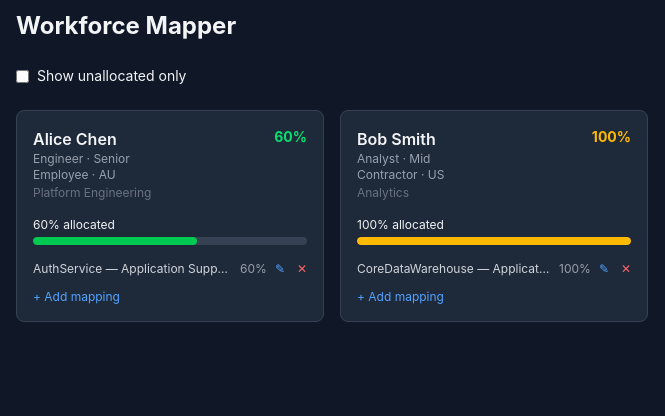
Test case: MappingView › shows reason-specific toast when resource inactive on add
Expected: the text "Alice Chen" is shown, x1=33 y1=129 x2=117 y2=149
Click the button "+ Add mapping" below "AuthService — Application Support": x=76, y=296 x1=33 y1=289 x2=307 y2=305
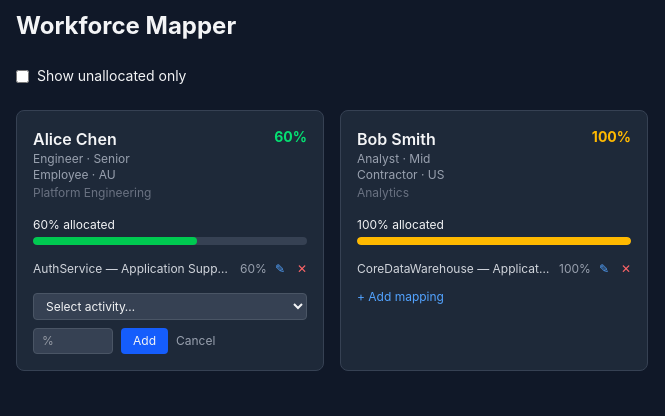
Select "CoreDataWarehouse — Application Support" in the dropdown: x=170, y=306 x1=33 y1=293 x2=307 y2=320
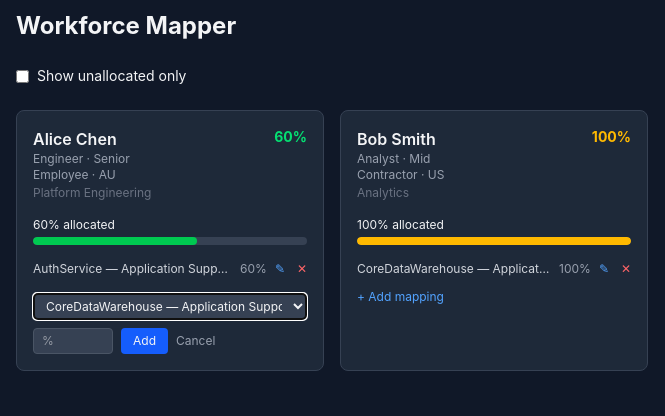
In the number field with placeholder "%": x=73, y=341 x1=33 y1=328 x2=113 y2=354, type "50"
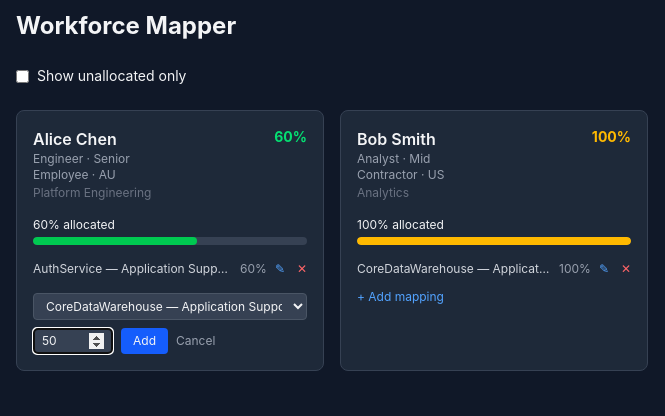
Click the button "Add": x=144, y=341 x1=121 y1=328 x2=168 y2=354
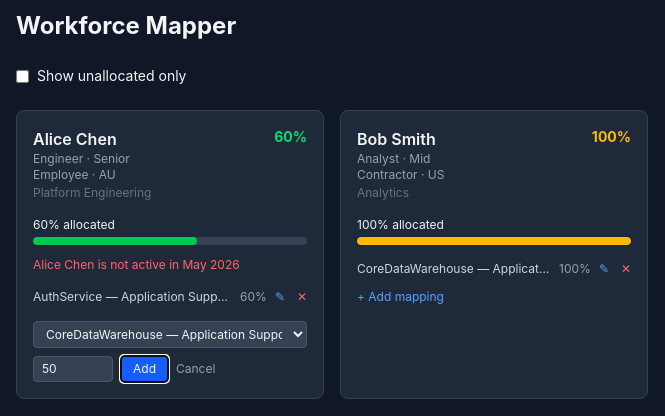
Expected: the text "Alice Chen is not active in May 2026" is shown, x1=33 y1=257 x2=240 y2=272
